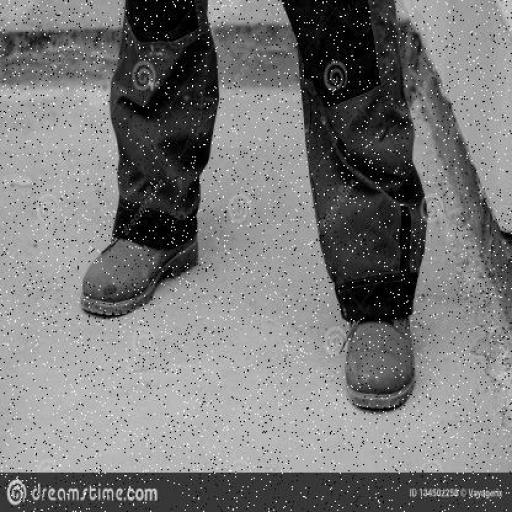safety_shoe: (83, 222, 201, 315), (348, 309, 416, 413)
